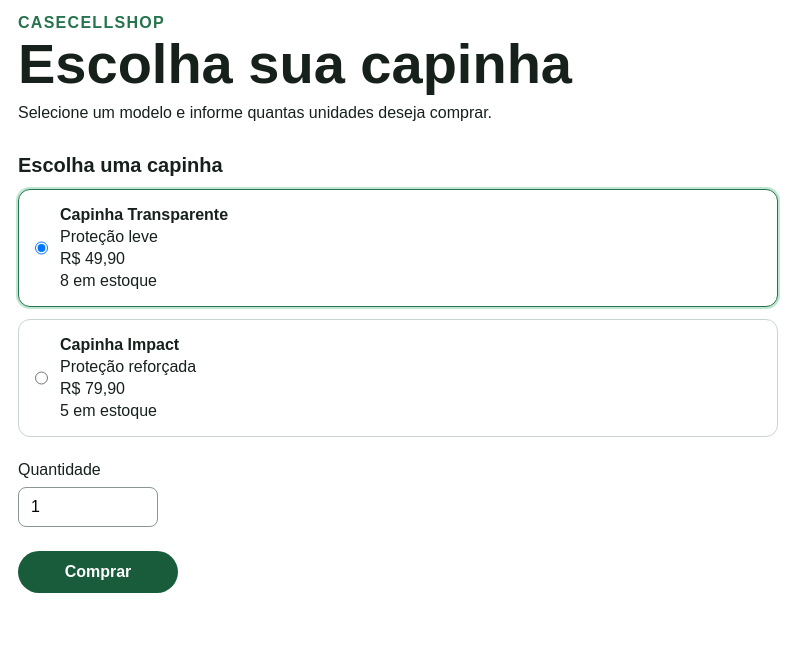
Test: CheckoutPage › rejects a non-positive safe integer before sending a request
Expected: the radio button labelled "Capinha Transparente Proteção leve R$ 49,90 8 em estoque" is shown, [35, 206, 48, 290]
Replace the text in the number field labelled "Quantidade" with "9007199254740992". click: (88, 507)
box: [18, 487, 158, 527]
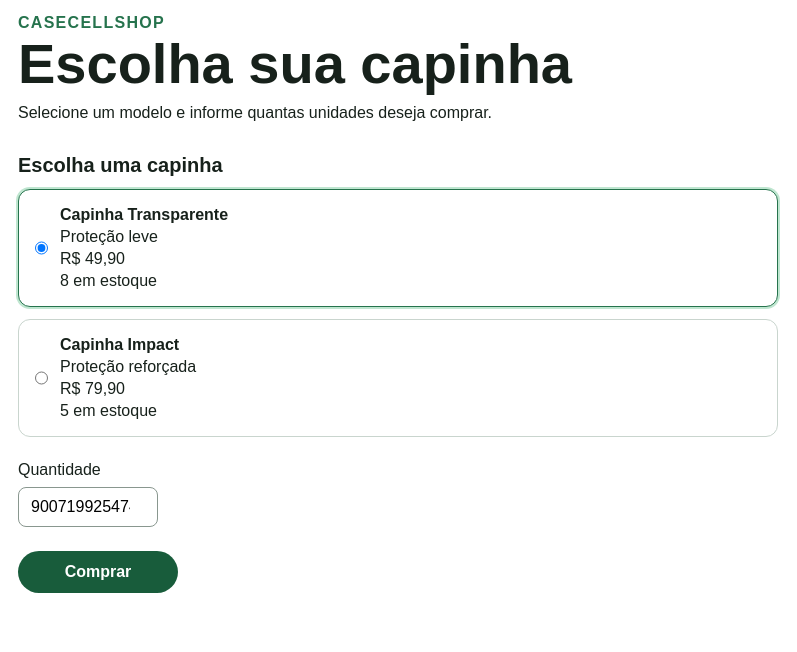
Click the button "Comprar". click: (98, 572)
box: [18, 551, 178, 593]
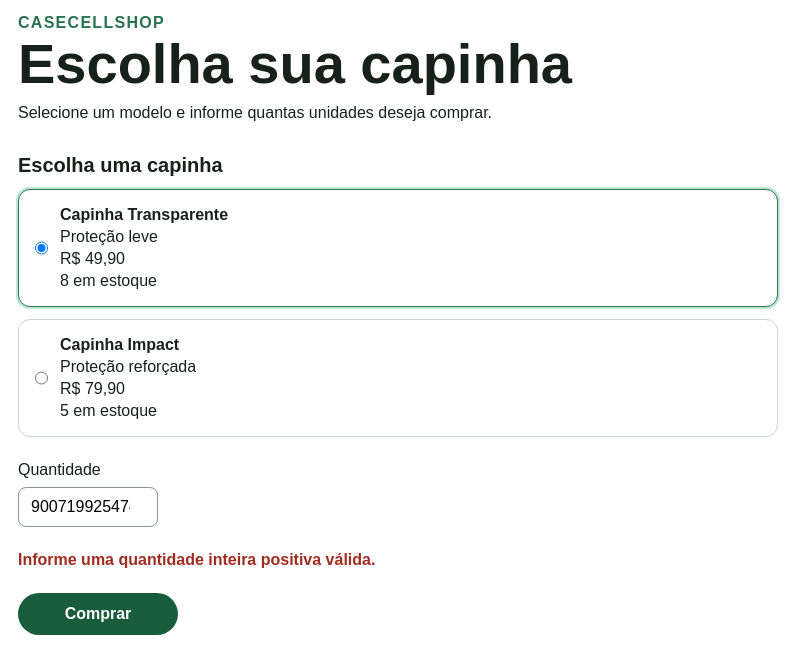
Expected: the message reads "Informe uma quantidade inteira positiva válida.", [18, 551, 375, 568]
